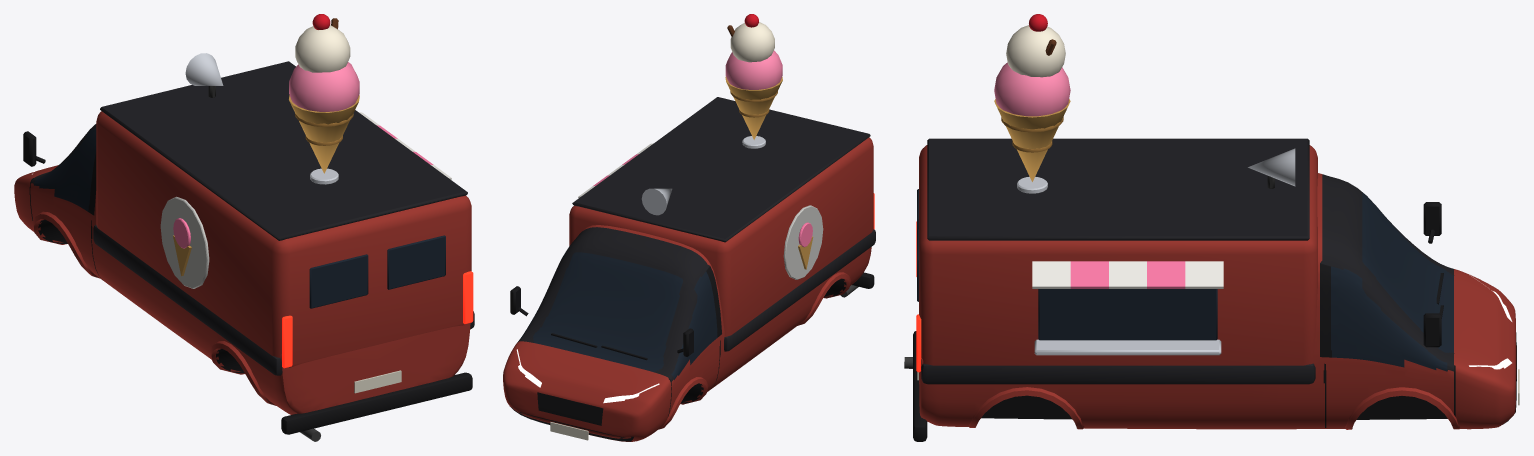
Rendered from car_brainfreeze.glb.
The picture shows the model from 3 angles, left to right: view 1: azimuth 30°, elevation 25°; view 2: azimuth 150°, elevation 25°; view 3: azimuth 270°, elevation 25°; orthographic projection. The views are drawn at different scales.
Parts seen in each view (by area): view 1: parts, body, lips; view 2: parts, body, strip1, lips, strip2; view 3: parts, body, lips.
Part boxes in pixels (x1,y1,x2,y2): parts: (23, 14, 474, 441); body: (14, 124, 470, 414); lips: (32, 211, 276, 405); parts: (510, 14, 875, 440); body: (503, 225, 871, 441); strip1: (537, 392, 603, 425); lips: (658, 272, 850, 429); strip2: (511, 407, 633, 441); parts: (904, 14, 1519, 441); body: (919, 173, 1516, 429); lips: (969, 387, 1459, 429).
Bounding box in the file's own units: 2.45 × 3.6 × 5.15.
